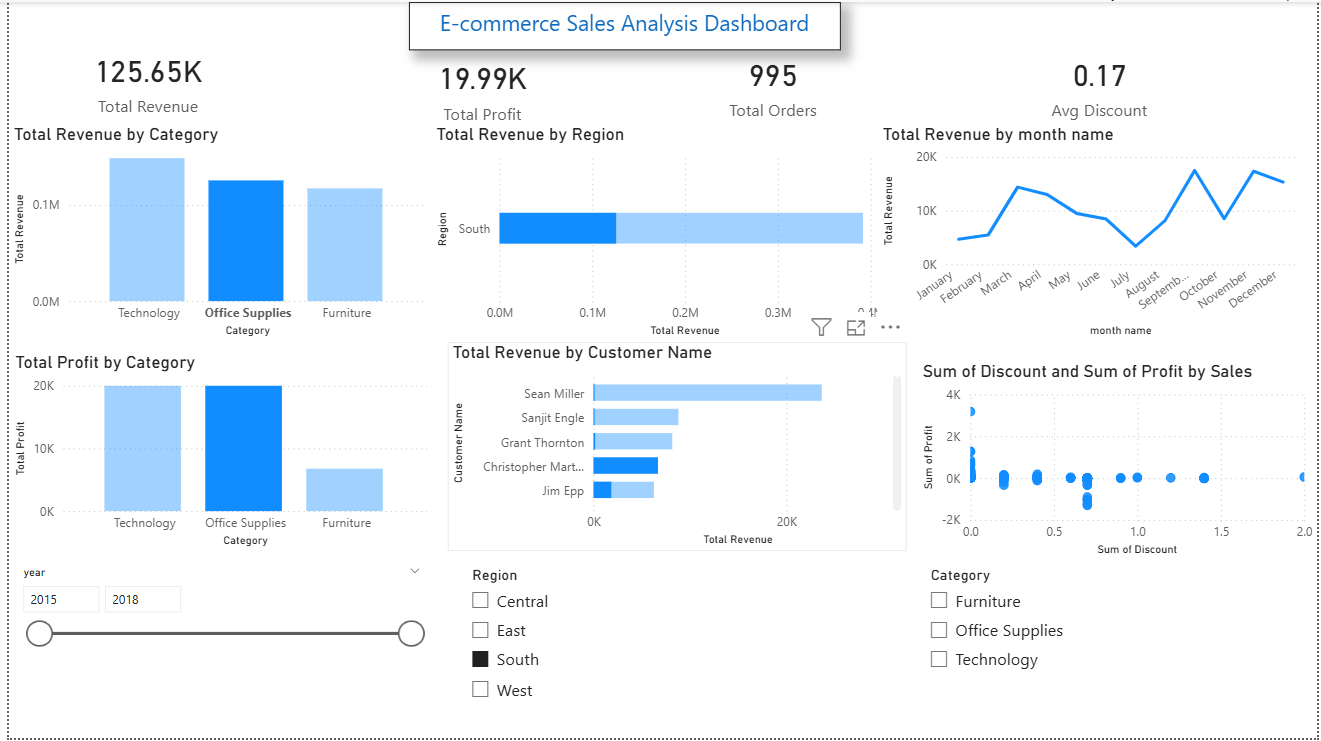

The page's visual inventory and layout, read from the dashboard file:
{"tool":"powerbi","page":{"name":"Page 1","canvas":[1280,720],"ordinal":0},"visuals":[{"type":"card","fields":{"Values":["cleaned_data.Total Revenue"]},"box":[42.8,35.5,187.1,83.2],"z":2},{"type":"card","fields":{"Values":["cleaned_data.Total Profit"]},"box":[370.5,46.5,185.9,75.8],"z":3},{"type":"card","fields":{"Values":["cleaned_data.Total Orders"]},"box":[617.5,35.5,260.5,90.5],"z":4},{"type":"card","fields":{"Values":["cleaned_data.Avg Discount"]},"box":[944,39.1,245.8,83.2],"z":5},{"type":"clusteredColumnChart","fields":{"Category":["cleaned_data.Category"],"Y":["cleaned_data.Total Revenue"]},"box":[0,118.6,413.3,214],"z":6},{"type":"clusteredBarChart","fields":{"Y":["cleaned_data.Total Revenue"],"Category":["cleaned_data.Region"]},"box":[413.3,118.6,448.8,214],"z":7},{"type":"lineChart","fields":{"Category":["cleaned_data.month name"],"Y":["cleaned_data.Total Revenue"]},"box":[849.9,118.6,413.3,214],"z":8},{"type":"clusteredColumnChart","fields":{"Category":["cleaned_data.Category"],"Y":["cleaned_data.Total Profit"]},"box":[1.2,342.4,413.3,195.7],"z":9},{"type":"clusteredBarChart","fields":{"Category":["cleaned_data.Customer Name"],"Y":["cleaned_data.Total Revenue"]},"box":[429.2,332.6,448.8,204.2],"z":10},{"type":"scatterChart","fields":{"X":["Sum(cleaned_data.Discount)"],"Y":["Sum(cleaned_data.Profit)"],"Category":["cleaned_data.Sales"]},"box":[889,351,391.3,195.7],"z":11},{"type":"slicer","fields":{"Values":["cleaned_data.year"]},"box":[1.2,546.6,413.3,132.1],"z":12},{"type":"slicer","fields":{"Values":["cleaned_data.Region"]},"box":[440.2,546.6,448.8,150.4],"z":13},{"type":"slicer","fields":{"Values":["cleaned_data.Category"]},"box":[889,546.6,391.3,150.4],"z":14},{"type":"textbox","box":[391.3,0,422,47],"z":15}]}

Visuals, with their boxes in screenshot pixels (x1, y1, x2, y2), scaled from the page's 1280x720 canvas onto the 1321x741 screenshot:
card - cleaned_data.Total Revenue: (x1=44, y1=37, x2=237, y2=122)
card - cleaned_data.Total Profit: (x1=382, y1=48, x2=574, y2=126)
card - cleaned_data.Total Orders: (x1=637, y1=37, x2=906, y2=130)
card - cleaned_data.Avg Discount: (x1=974, y1=40, x2=1228, y2=126)
clusteredColumnChart - cleaned_data.Category x cleaned_data.Total Revenue: (x1=0, y1=122, x2=427, y2=342)
clusteredBarChart - cleaned_data.Total Revenue x cleaned_data.Region: (x1=427, y1=122, x2=890, y2=342)
lineChart - cleaned_data.month name x cleaned_data.Total Revenue: (x1=877, y1=122, x2=1304, y2=342)
clusteredColumnChart - cleaned_data.Category x cleaned_data.Total Profit: (x1=1, y1=352, x2=428, y2=554)
clusteredBarChart - cleaned_data.Customer Name x cleaned_data.Total Revenue: (x1=443, y1=342, x2=906, y2=552)
scatterChart - Sum(cleaned_data.Discount) x Sum(cleaned_data.Profit): (x1=917, y1=361, x2=1320, y2=563)
slicer - cleaned_data.year: (x1=1, y1=563, x2=428, y2=698)
slicer - cleaned_data.Region: (x1=454, y1=563, x2=917, y2=717)
slicer - cleaned_data.Category: (x1=917, y1=563, x2=1320, y2=717)
textbox: (x1=404, y1=0, x2=839, y2=48)
